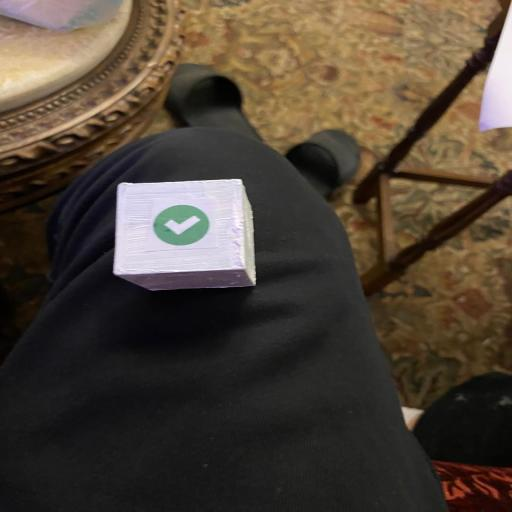Confirm: (112, 178, 258, 290)
